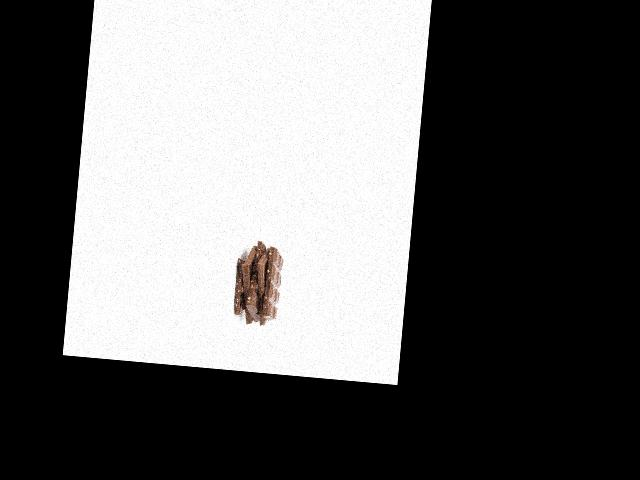chocolate: (227, 244, 265, 323)
